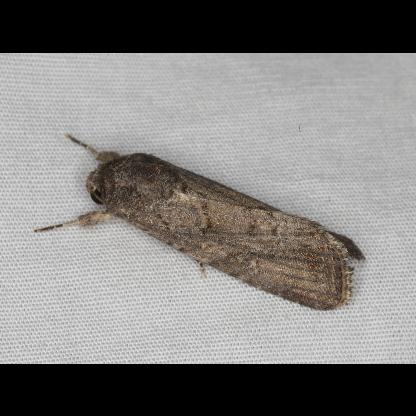Fall Armyworm Moth: (32, 130, 368, 314)
